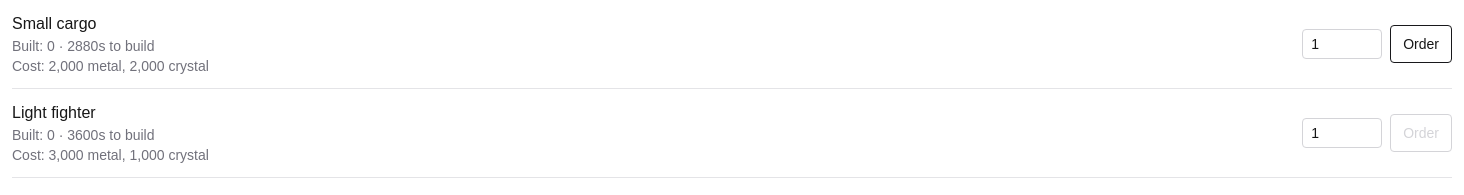
Test case: ShipyardView › re-checks affordability against the count the user enters
The width and height of the screenshot is (1464, 195).
Expected: the text "Small cargo" is shown, [12, 15, 96, 32]
Expected: the button with aria-label "Order Small cargo" is enabled, [1390, 25, 1452, 63]
Replace the text in the number field named "Small cargo count" with "2": (1342, 44) [1302, 29, 1382, 59]
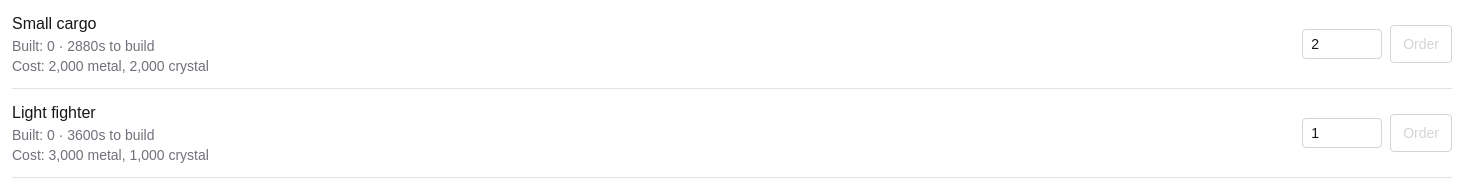
Now the button with aria-label "Order Small cargo" is disabled, box [1390, 25, 1452, 63]
